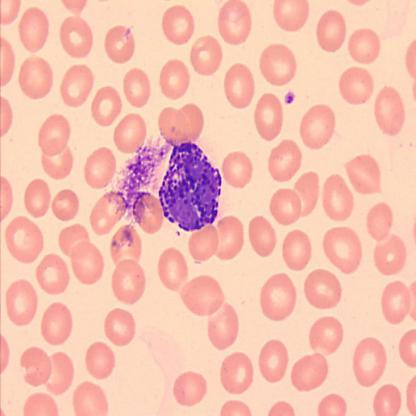Basophil: (158, 138, 223, 233)
